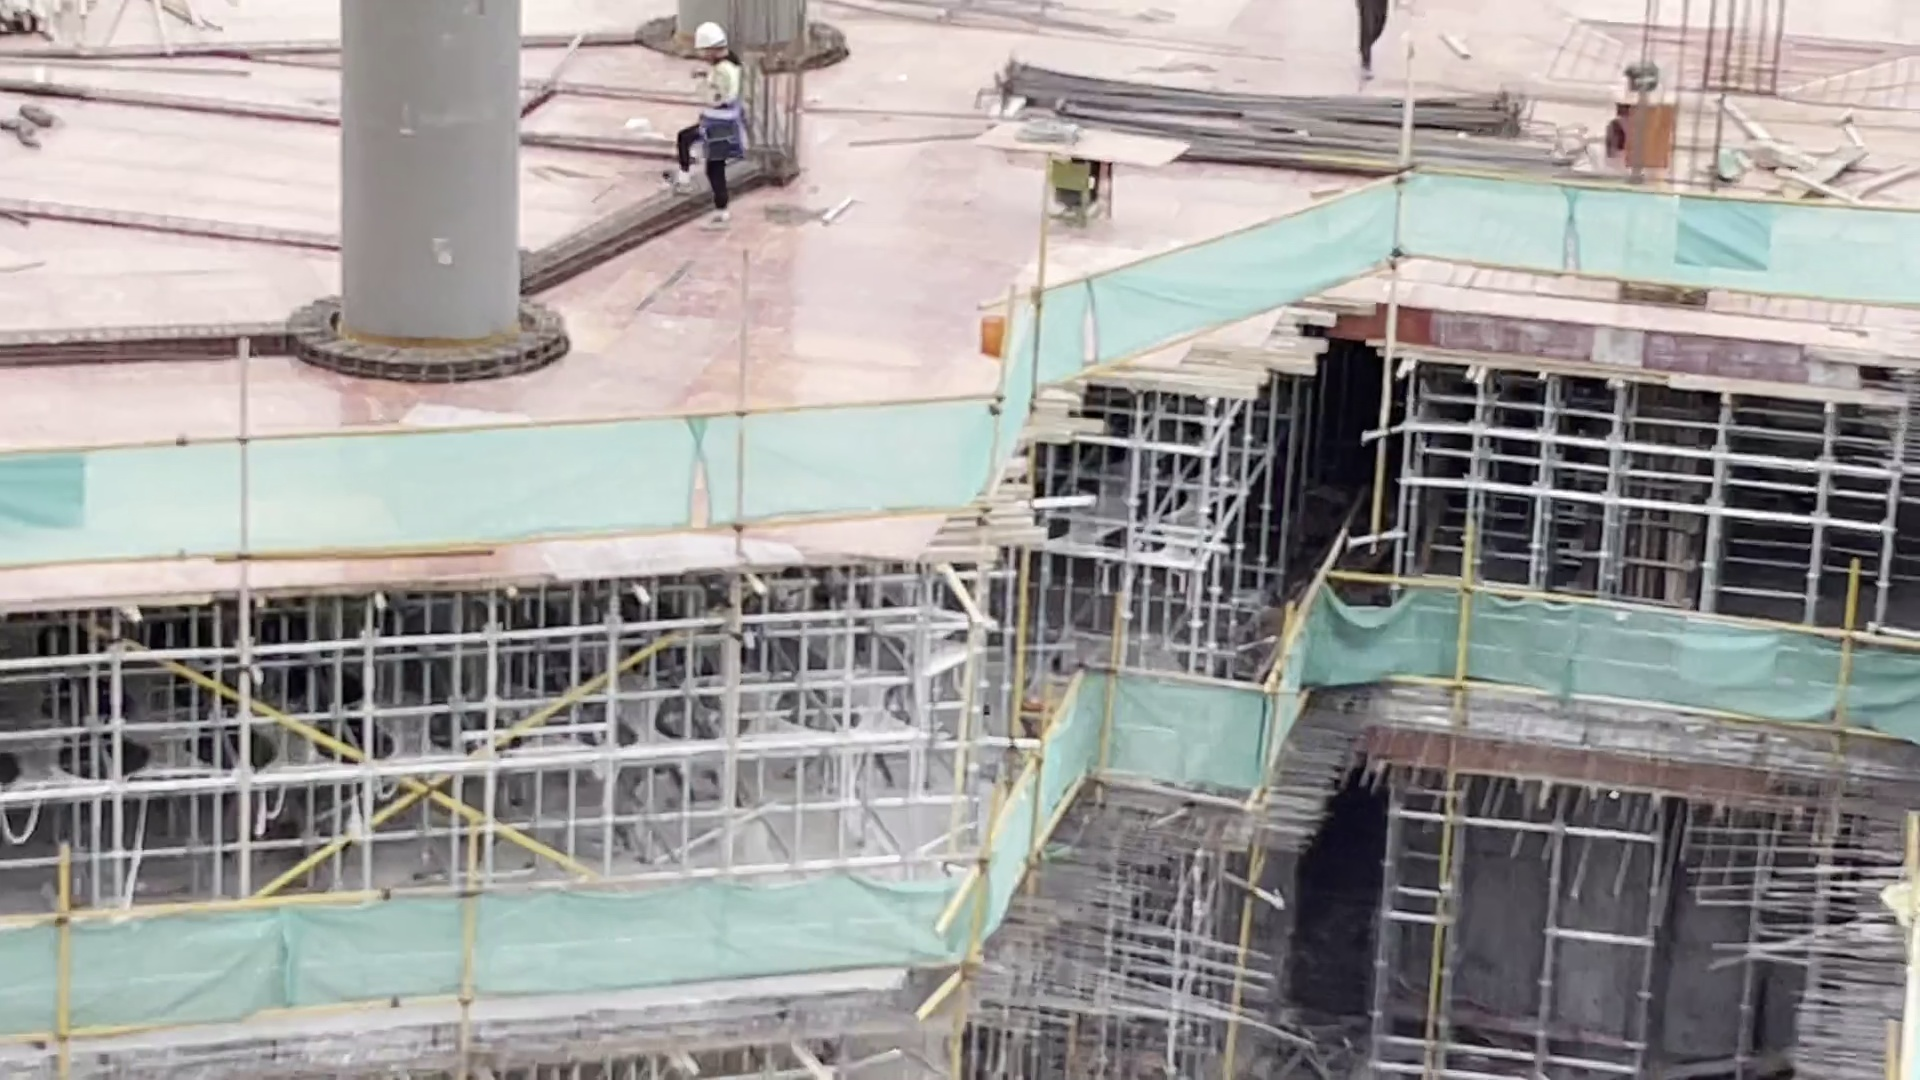helmet: (686, 17, 735, 53)
person: (671, 12, 758, 228)
rebar: (1004, 47, 1556, 172)
vest: (699, 68, 744, 136)
